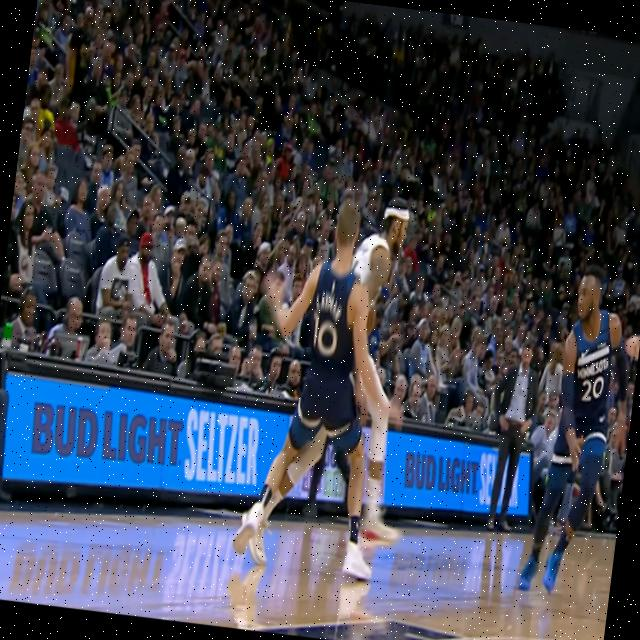Foul: (270, 187, 435, 580)
